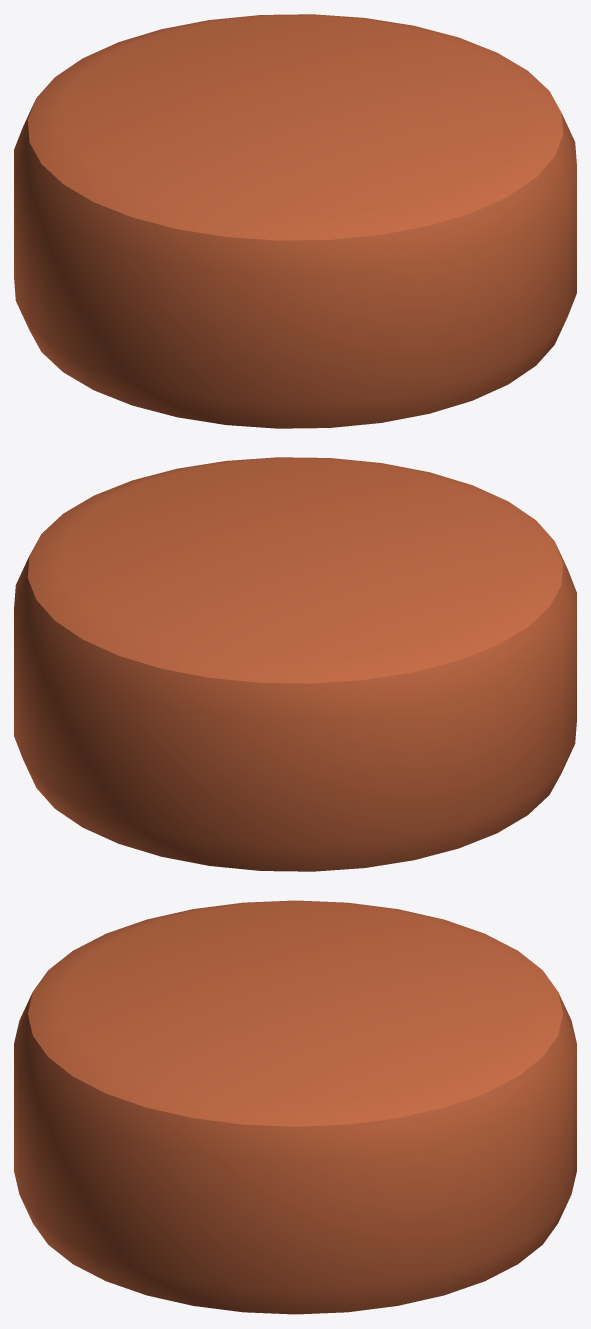
The model's file is benchtop_reflow_oven_start_button.glb.
The picture shows the model from 3 angles, top to bottom: view 1: azimuth 30°, elevation 25°; view 2: azimuth 150°, elevation 25°; view 3: azimuth 270°, elevation 25°; orthographic projection.
Visible parts, largest first — view 1: benchtop_reflow_oven_start_button; view 2: benchtop_reflow_oven_start_button; view 3: benchtop_reflow_oven_start_button.
Part boxes in pixels (x1,y1,x2,y2): benchtop_reflow_oven_start_button: (14,14,576,428); benchtop_reflow_oven_start_button: (14,457,576,871); benchtop_reflow_oven_start_button: (14,900,576,1314).
Bounding box in the file's own units: 0.024 × 0.01 × 0.024.
